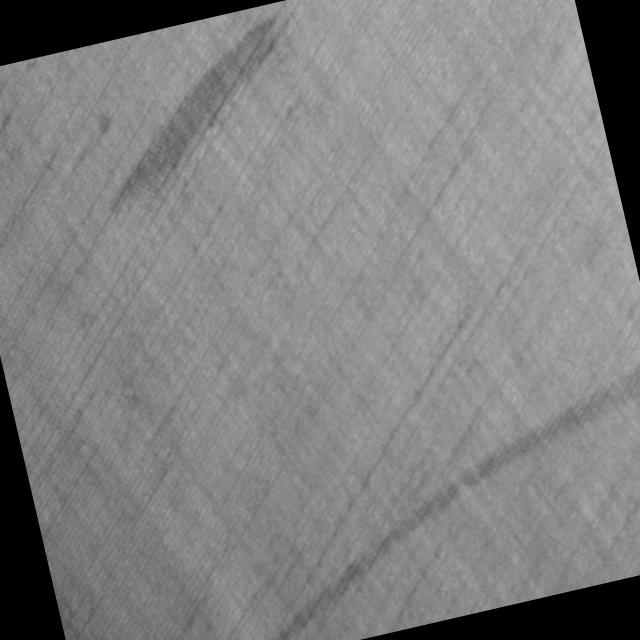oil spot: (202, 353, 640, 640), (71, 5, 329, 218)
